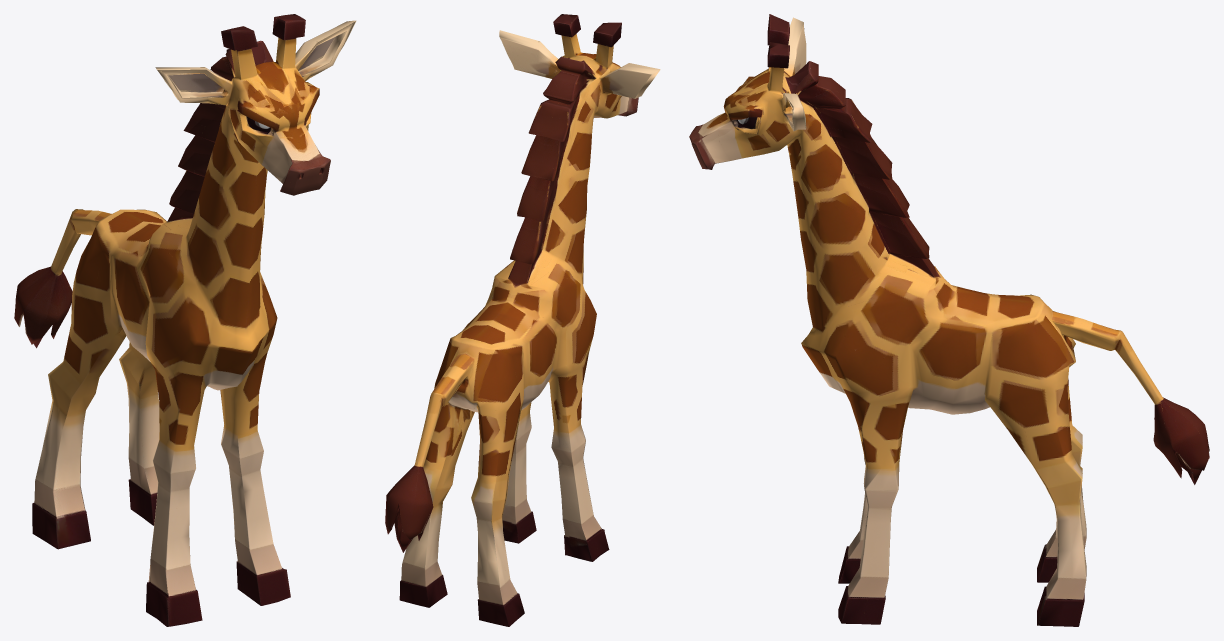
File: creature_giraffe_forge.glb
The picture shows the model from 3 angles, left to right: view 1: azimuth 30°, elevation 25°; view 2: azimuth 150°, elevation 25°; view 3: azimuth 270°, elevation 25°; orthographic projection. The views are drawn at different scales.
Bounding box in the file's own units: 0.3218 × 0.9526 × 0.7949.
1 material, 1 textured.
